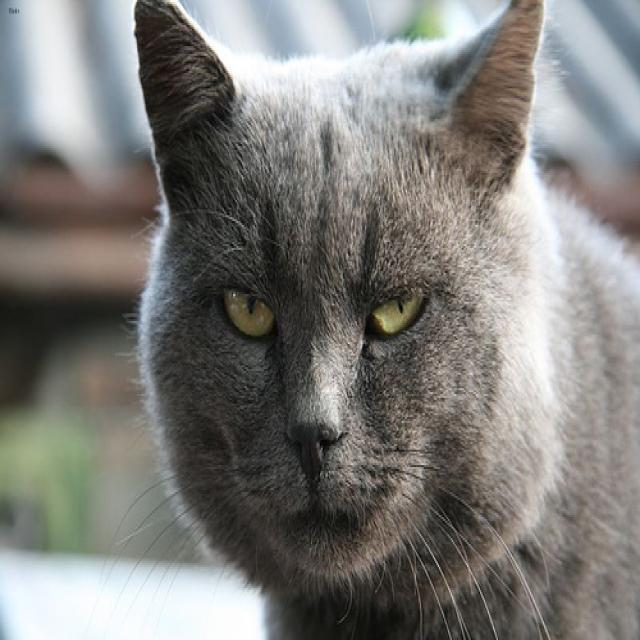Russian_Blue: (128, 0, 550, 586)
